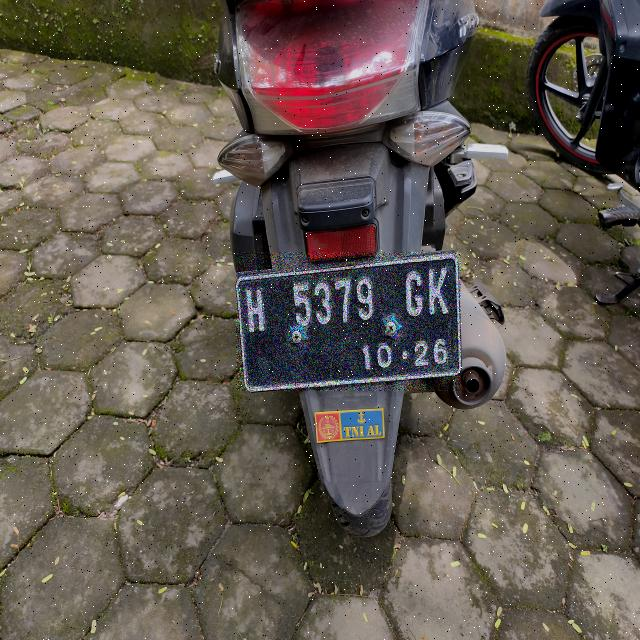plate: (237, 253, 460, 390)
